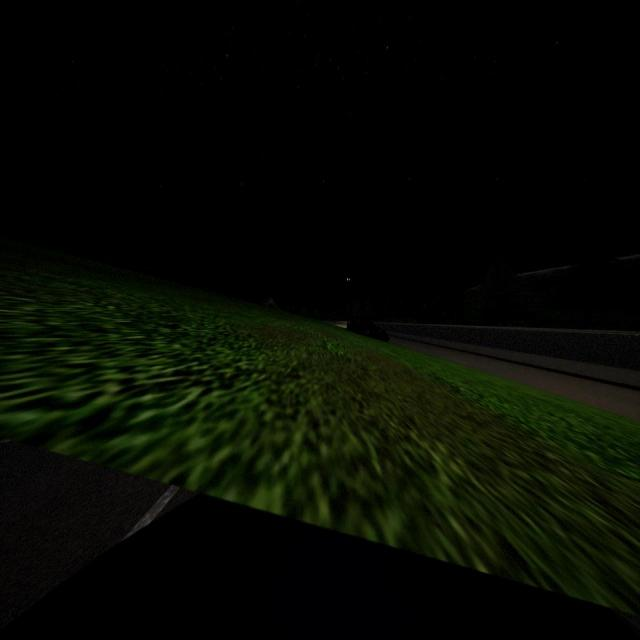Vehicle: (344, 316, 391, 343)
